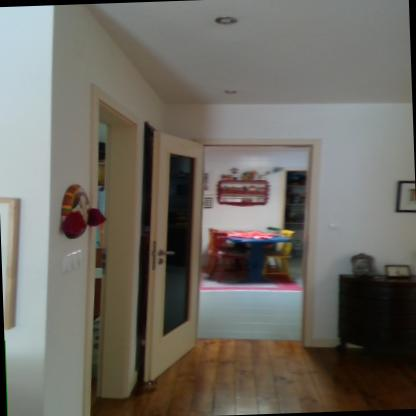open: (149, 118, 342, 363)
